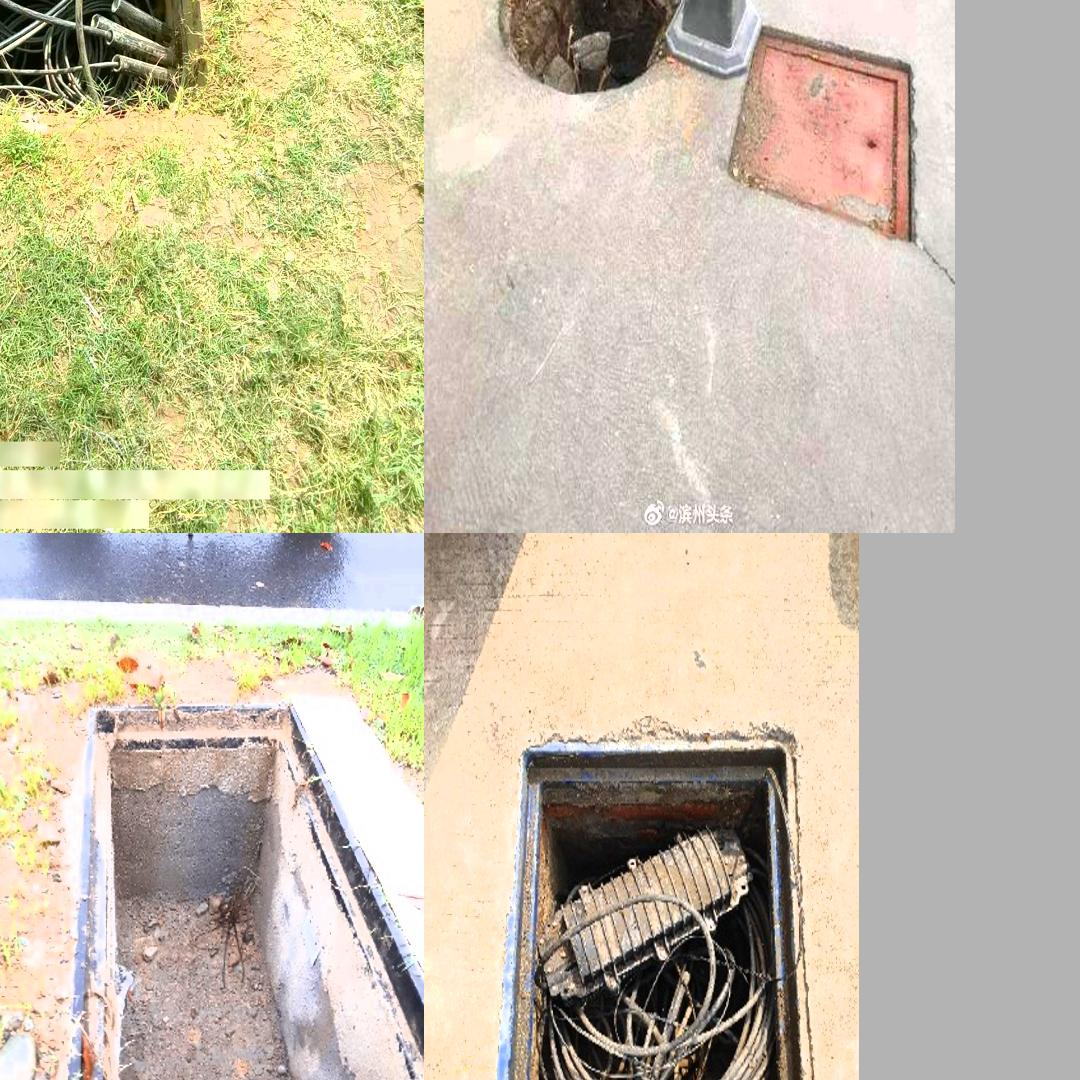lose: (73, 687, 424, 1080), (490, 734, 820, 1080), (0, 0, 222, 123), (498, 0, 691, 102)
